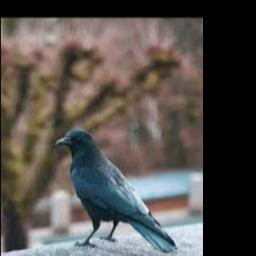Crow: (55, 128, 179, 253)
